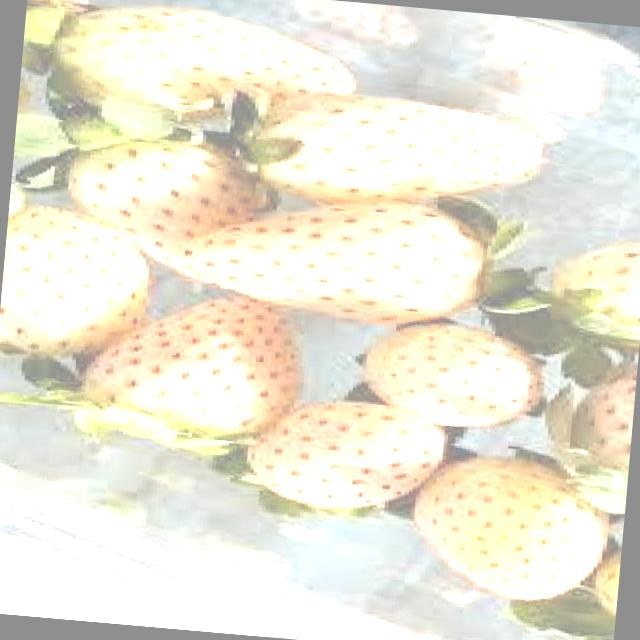Strawberry: (182, 185, 488, 332), (50, 0, 364, 132), (247, 86, 545, 220), (83, 286, 308, 442), (58, 121, 254, 289), (409, 456, 611, 605), (0, 206, 157, 365), (250, 396, 442, 517), (356, 314, 543, 434), (536, 226, 640, 348), (554, 356, 637, 508), (590, 545, 622, 623), (25, 0, 91, 22)
